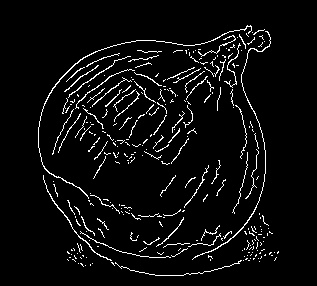red_onion: (25, 23, 277, 267)
